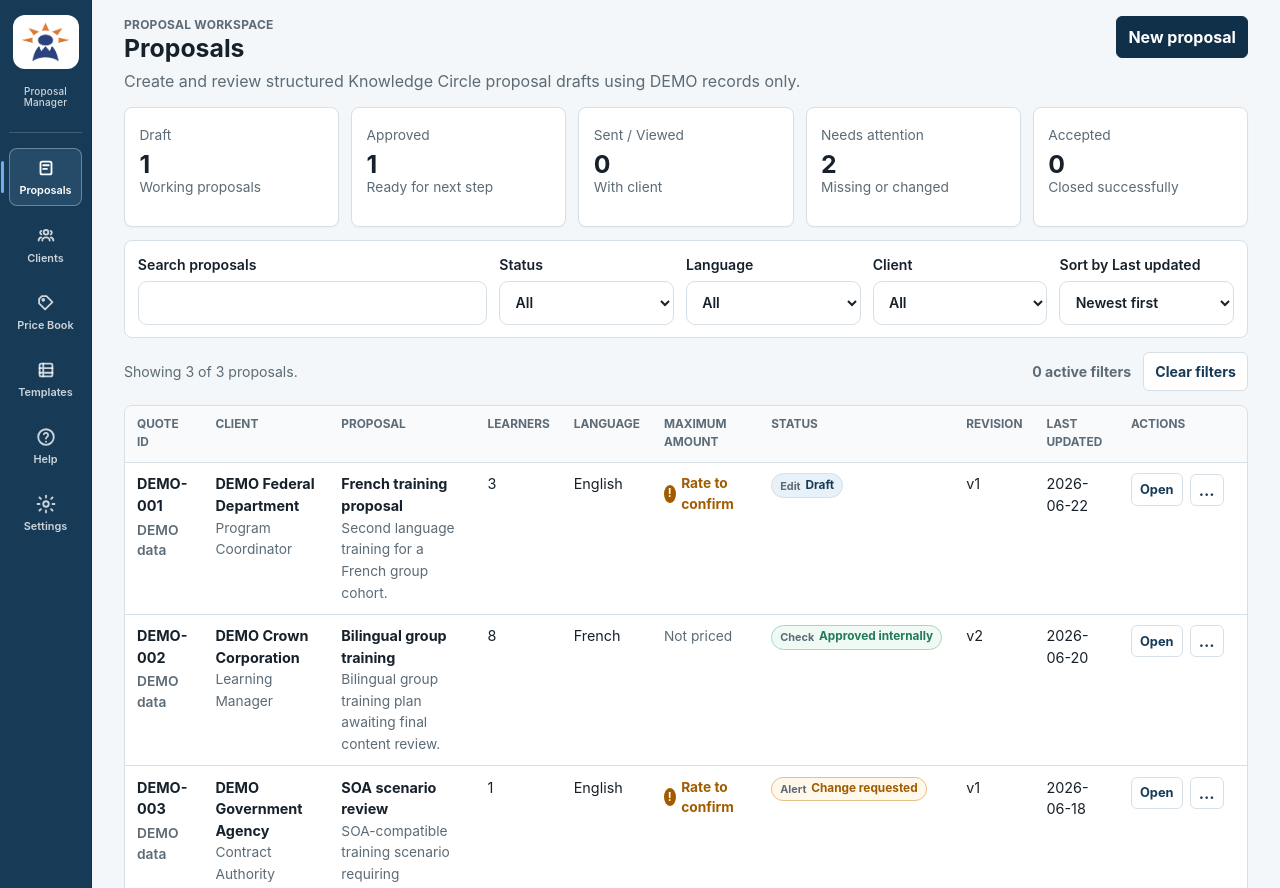
Scenario: App Phase 2A prototype › shows an English help guide for Kevin testing
This screenshot has width=1280, height=888.
Click the button "Help": (46, 446) top-left (9, 416), bottom-right (82, 475)
(page scrolled)
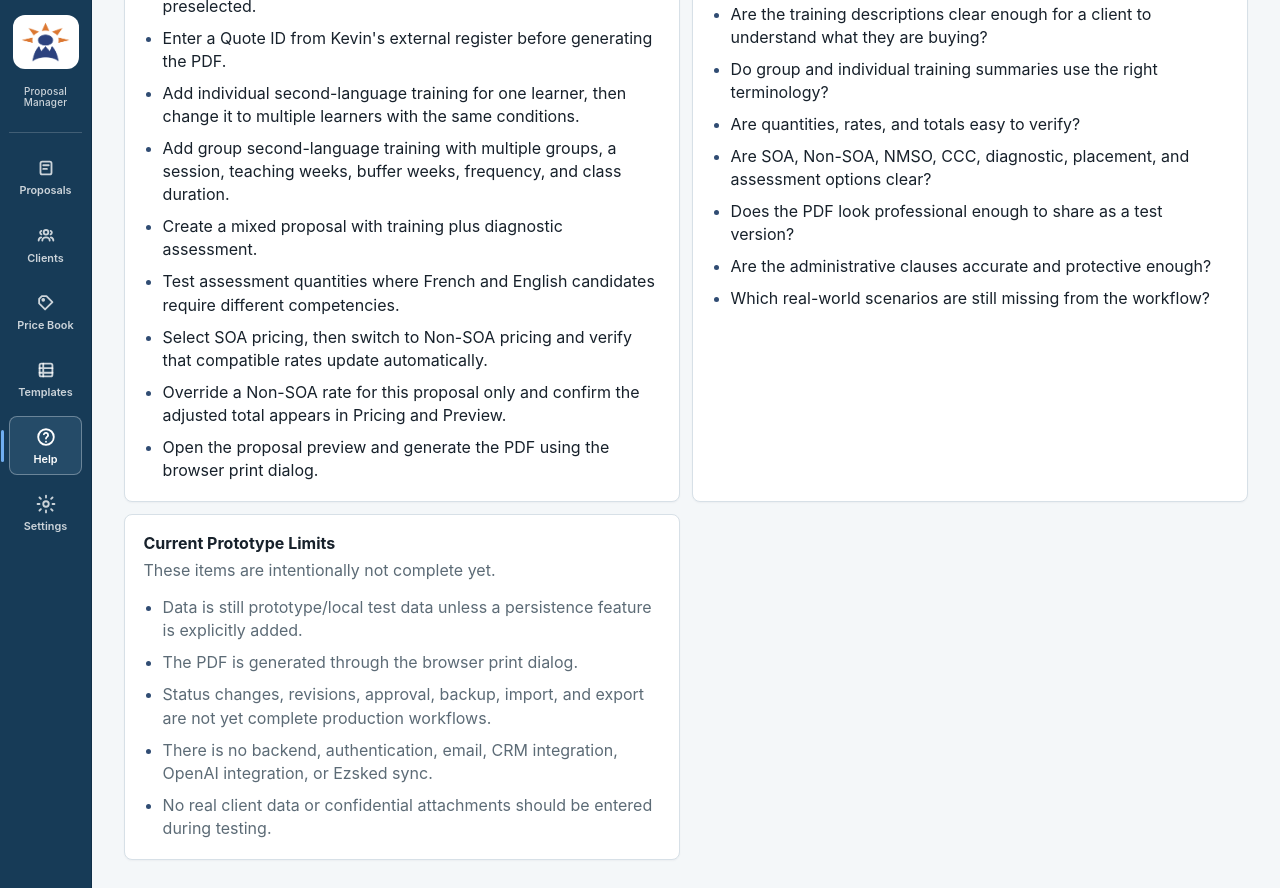
Now the list item "Add individual second-language training for one learner" is shown, box top-left (163, 83), bottom-right (626, 126)
Now the list item "Override a Non-SOA rate for this proposal only" is shown, box top-left (163, 382), bottom-right (640, 425)
Now the list item "There is no backend, authentication, email, CRM integration" is shown, box top-left (163, 740), bottom-right (618, 783)
